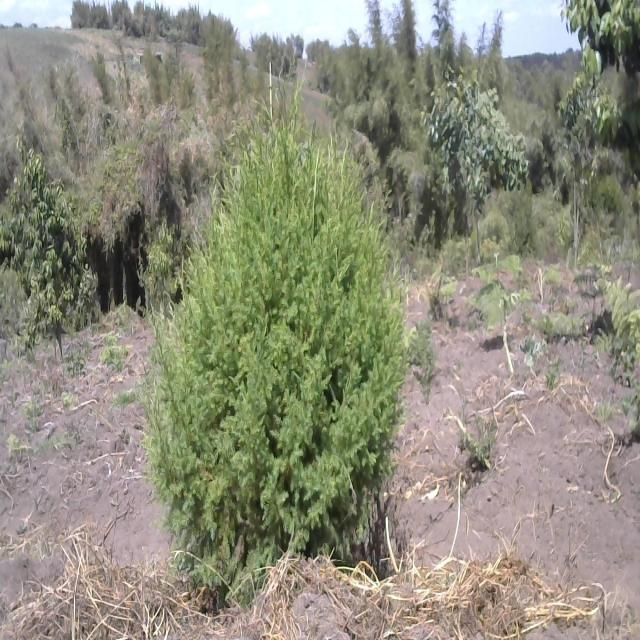Juniperus procesera: (153, 98, 401, 604)
Olea welwitchii: (421, 65, 532, 268), (0, 132, 88, 364)
